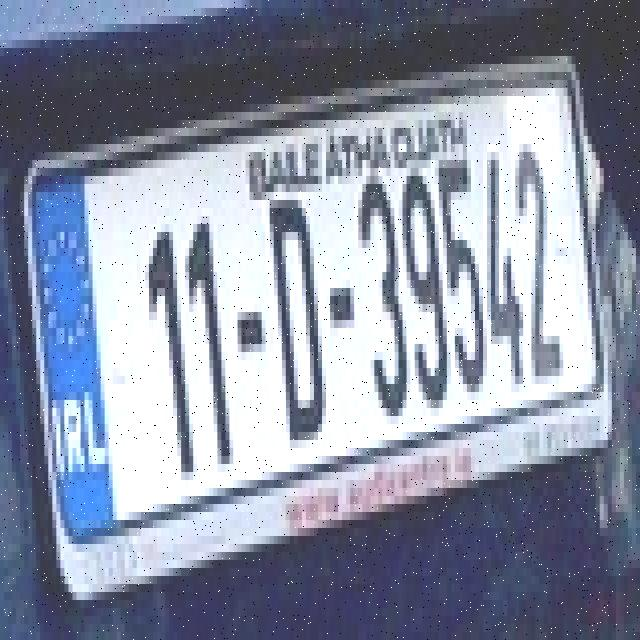licenseplate: (16, 72, 612, 550)
